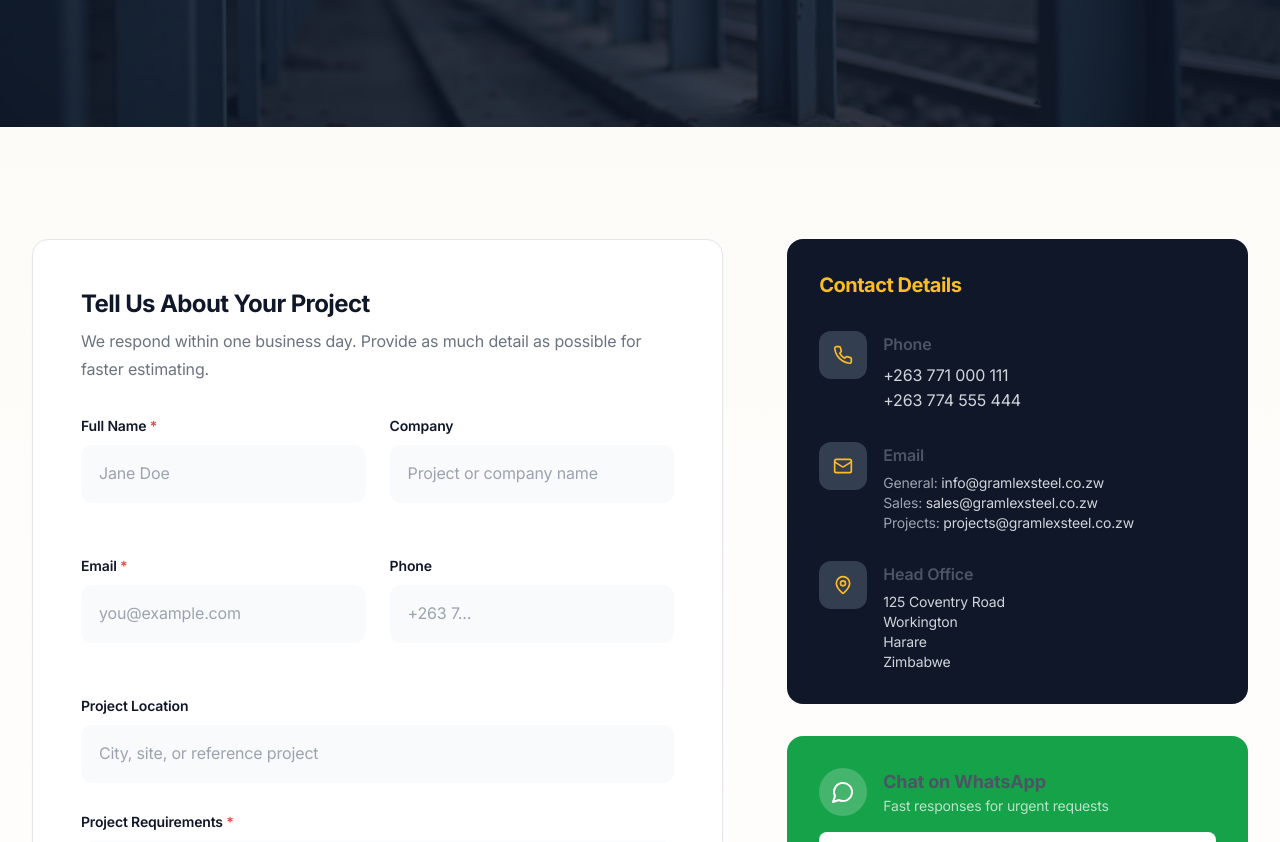
Test: ContactPage › shows validation error for short project requirements
(page scrolled)
In the field labelled "Full Name *": (223, 474) [81, 445, 366, 503], type "John Doe"
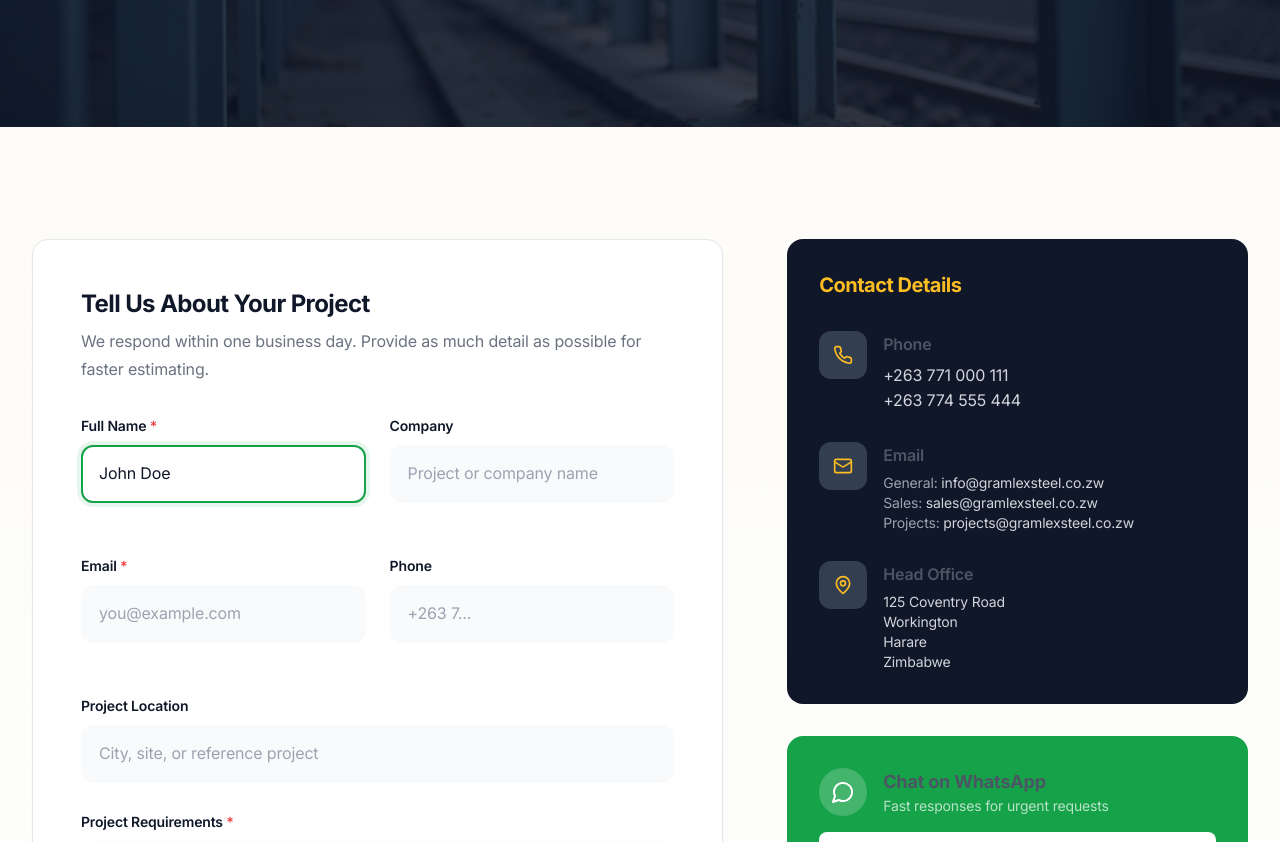
In the field labelled "Email *": (223, 614) [81, 585, 366, 643], type "john@example.com"
(page scrolled)
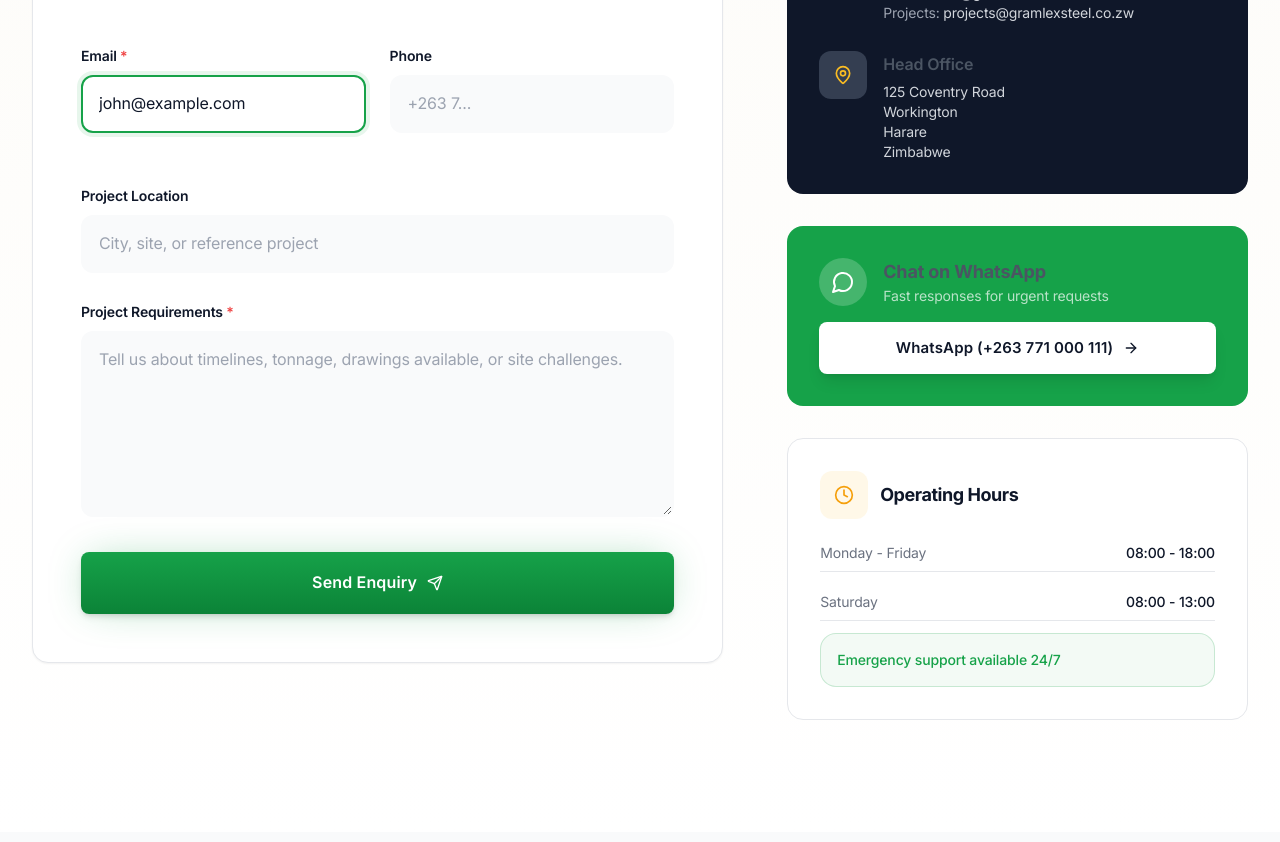
In the text box labelled "Project Requirements *": (378, 424) [81, 331, 674, 517], type "Short"
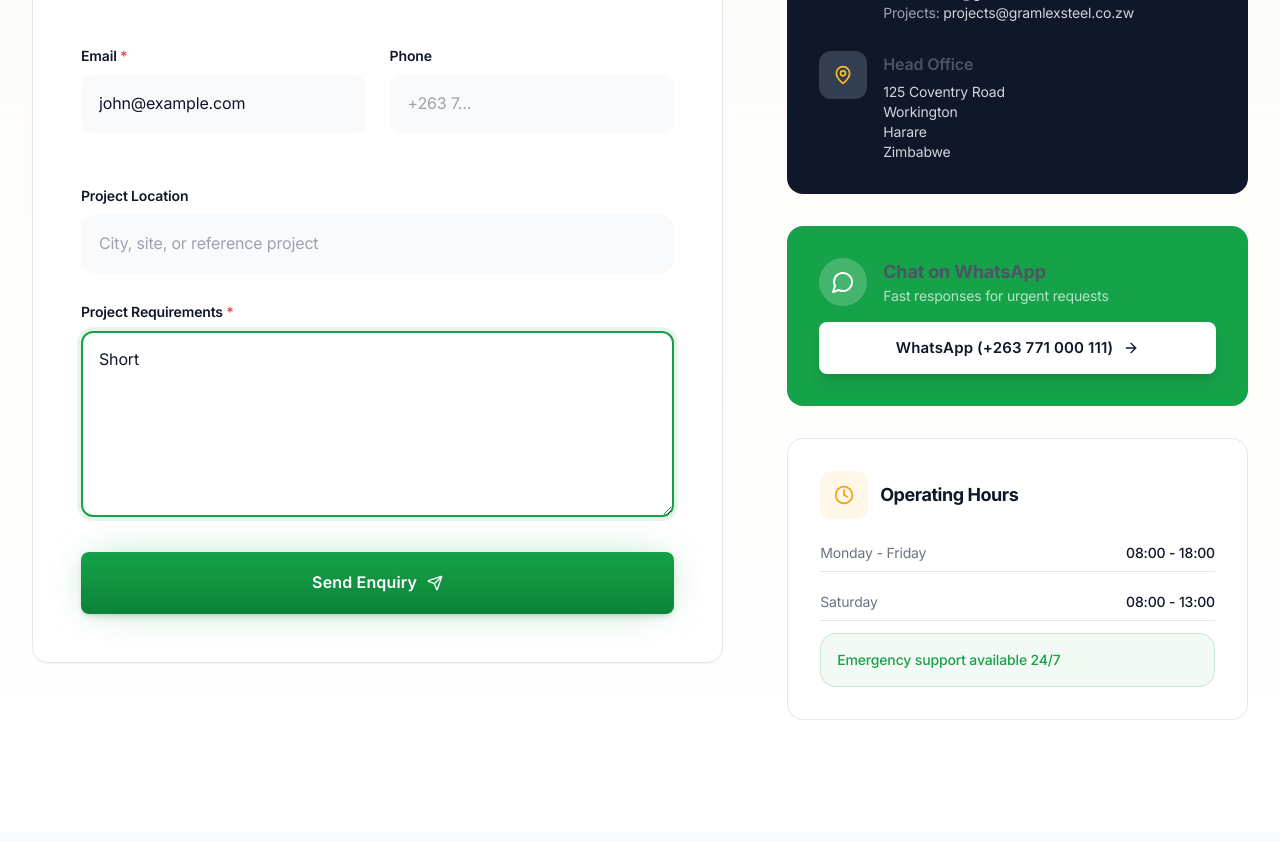
Click the button "Send Enquiry": (378, 583) [81, 552, 674, 614]
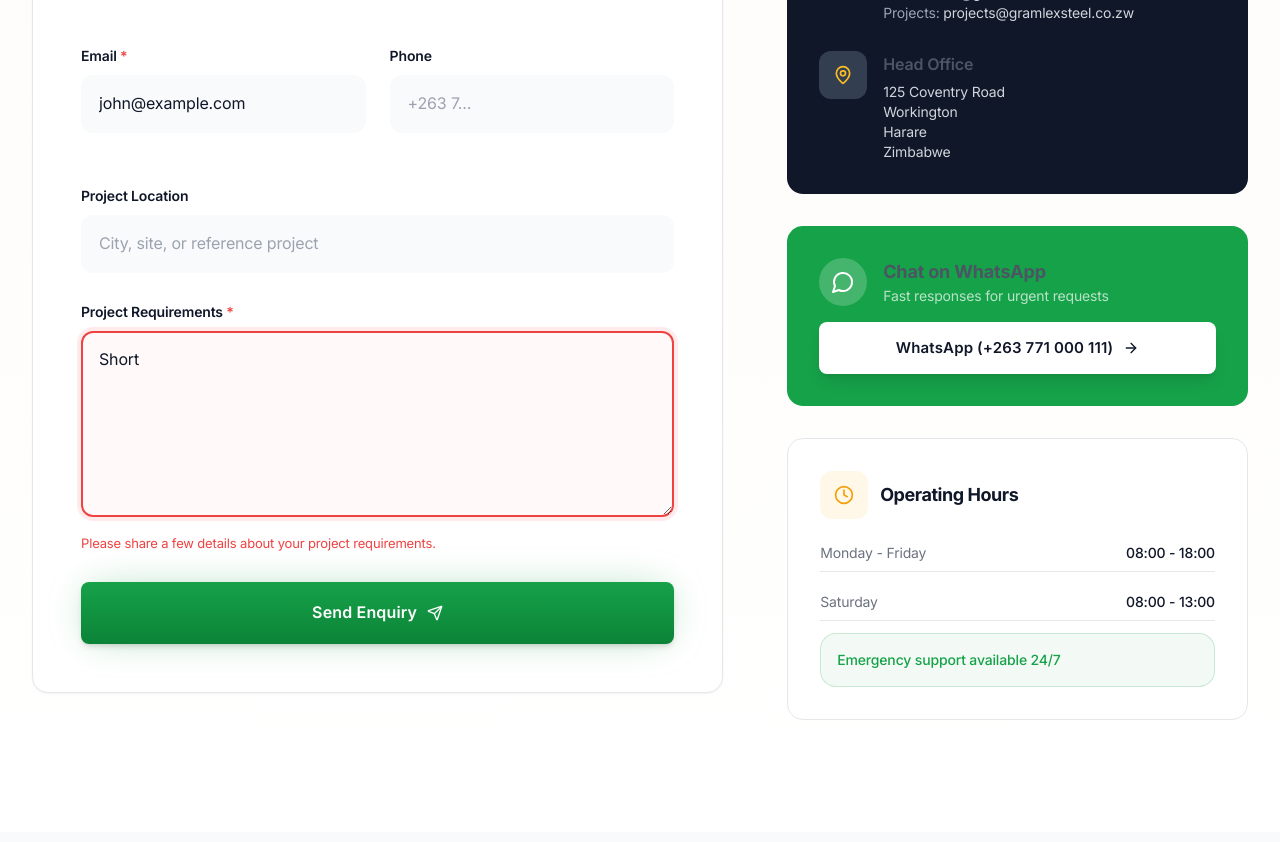
Now the text "Please share a few details about your project requirements." is shown, box [81, 535, 436, 551]
